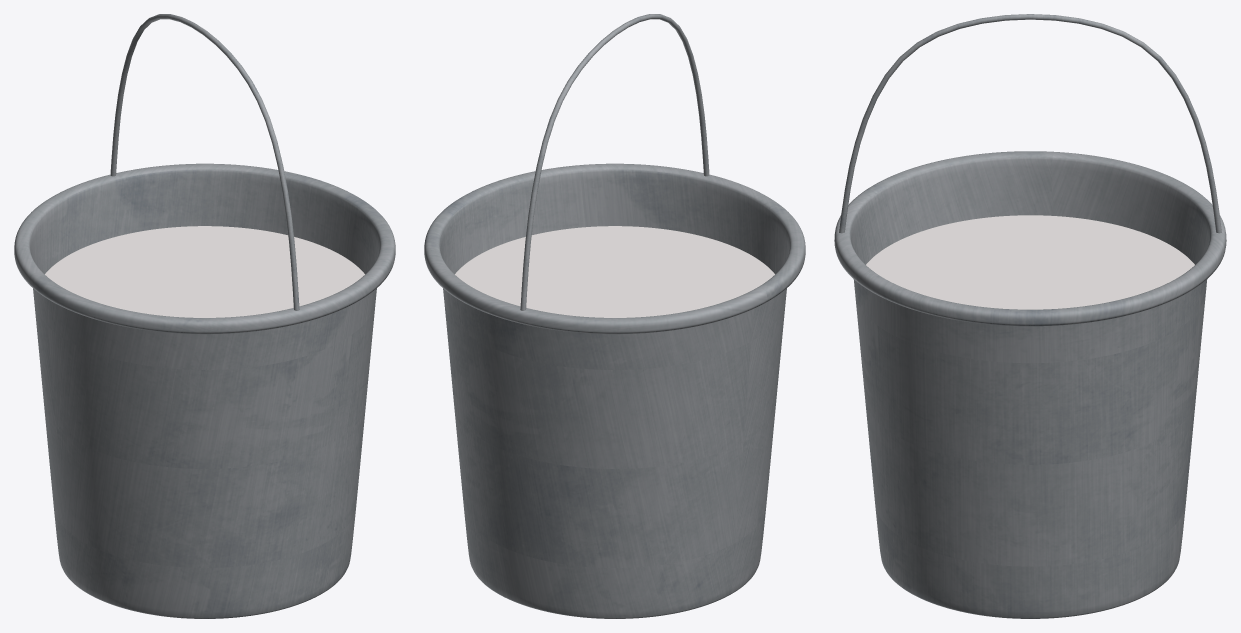
File: bucket.fbx
3 renders of one model, left to right at view 1: azimuth 30°, elevation 25°; view 2: azimuth 150°, elevation 25°; view 3: azimuth 270°, elevation 25°, orthographic. The views are drawn at different scales.
Parts seen in each view (by area): view 1: bucket; view 2: bucket; view 3: bucket.
Boxes of the visible parts, <box> form: bucket: <box>14,14,395,618</box>; bucket: <box>424,14,805,618</box>; bucket: <box>834,14,1226,618</box>.
Size of the model in its own units: 259 by 396 by 259.
